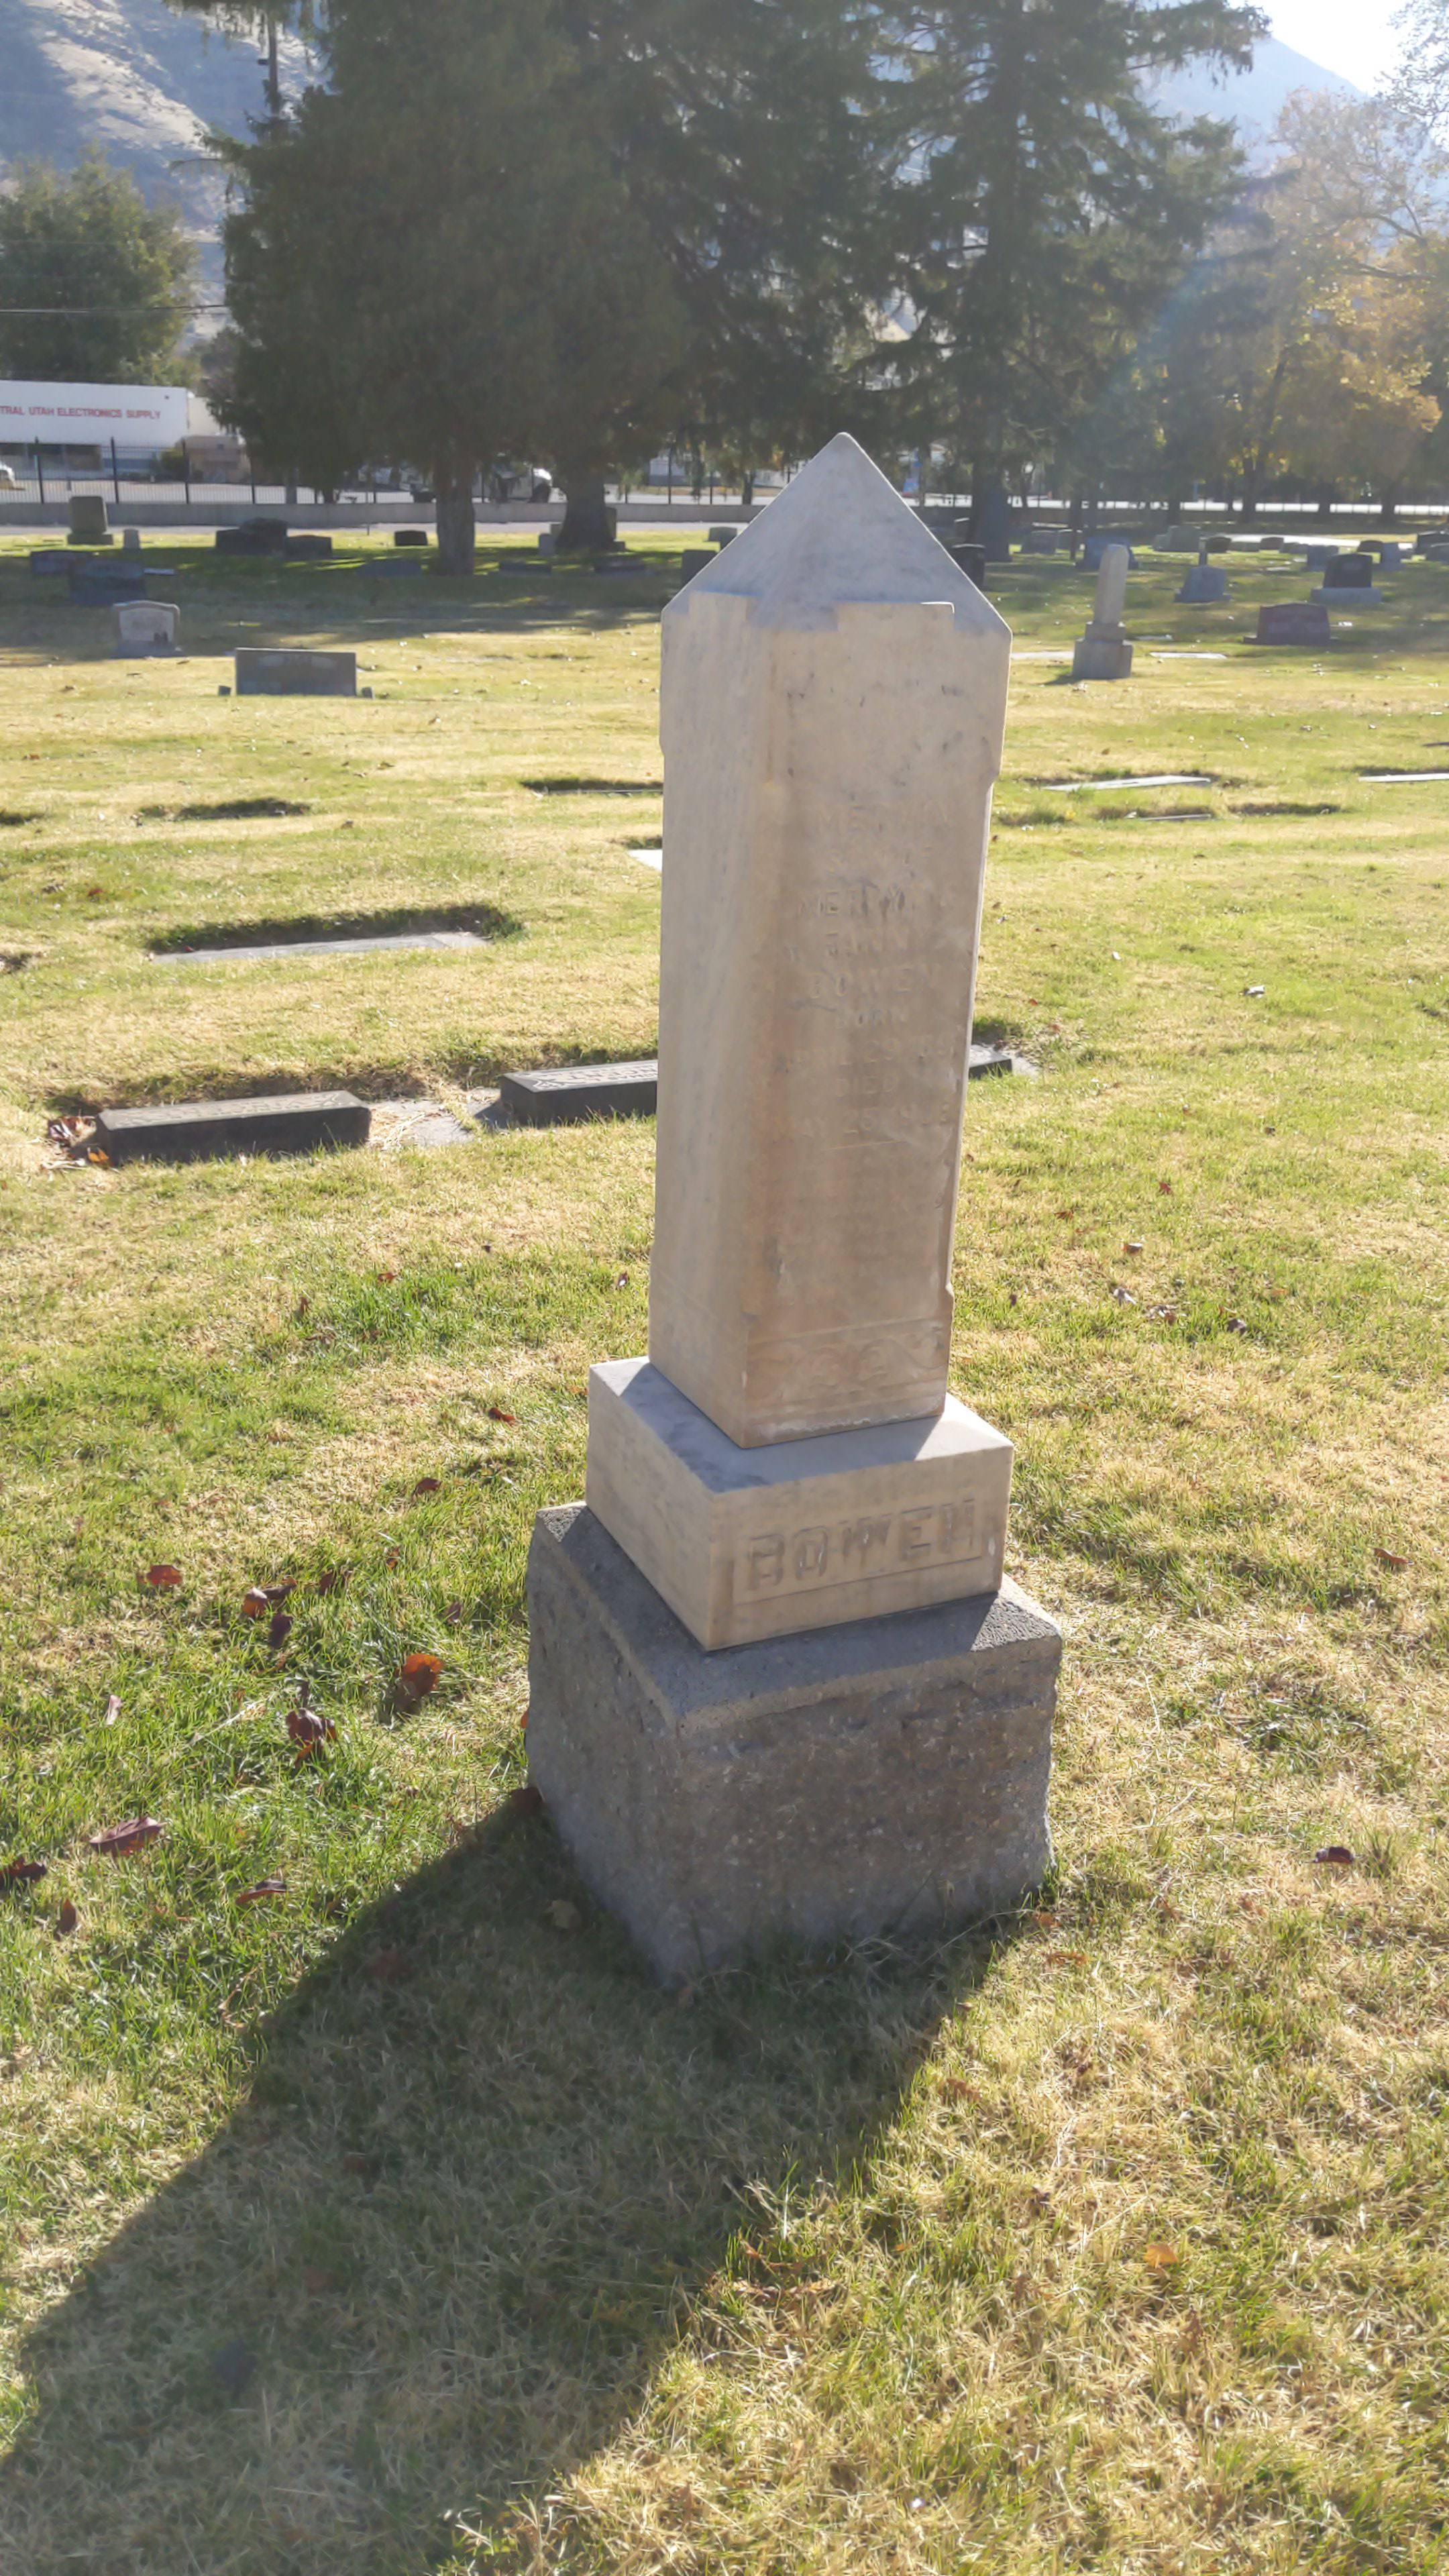obelisk: (584, 421, 1008, 1652)
